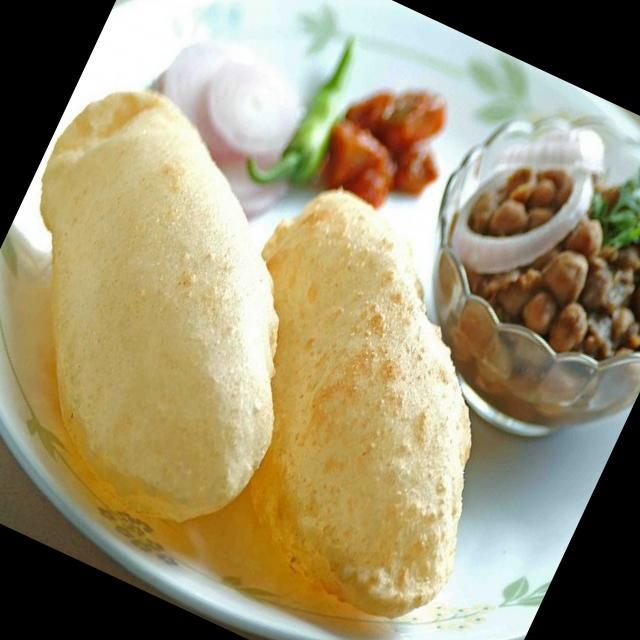Bhatura: (0, 63, 580, 640)
Chole: (432, 93, 640, 369)
